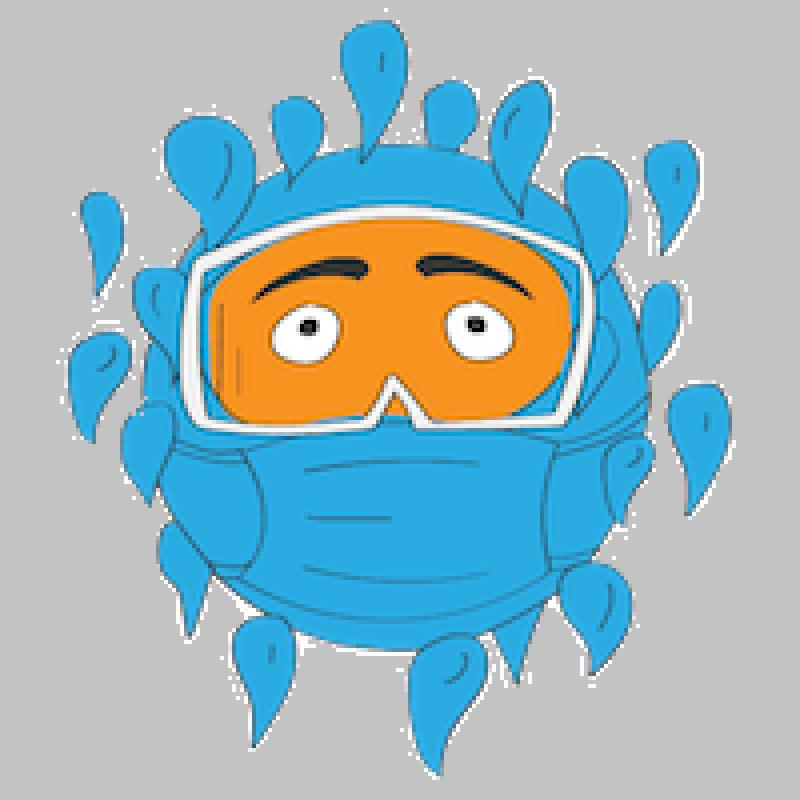doctor: (0, 0, 796, 796)
